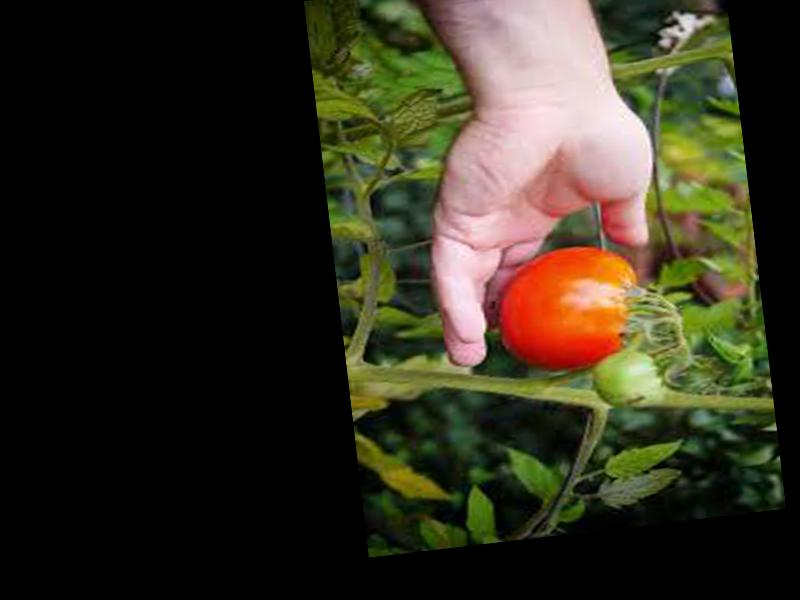Tomato: (491, 239, 650, 380)
